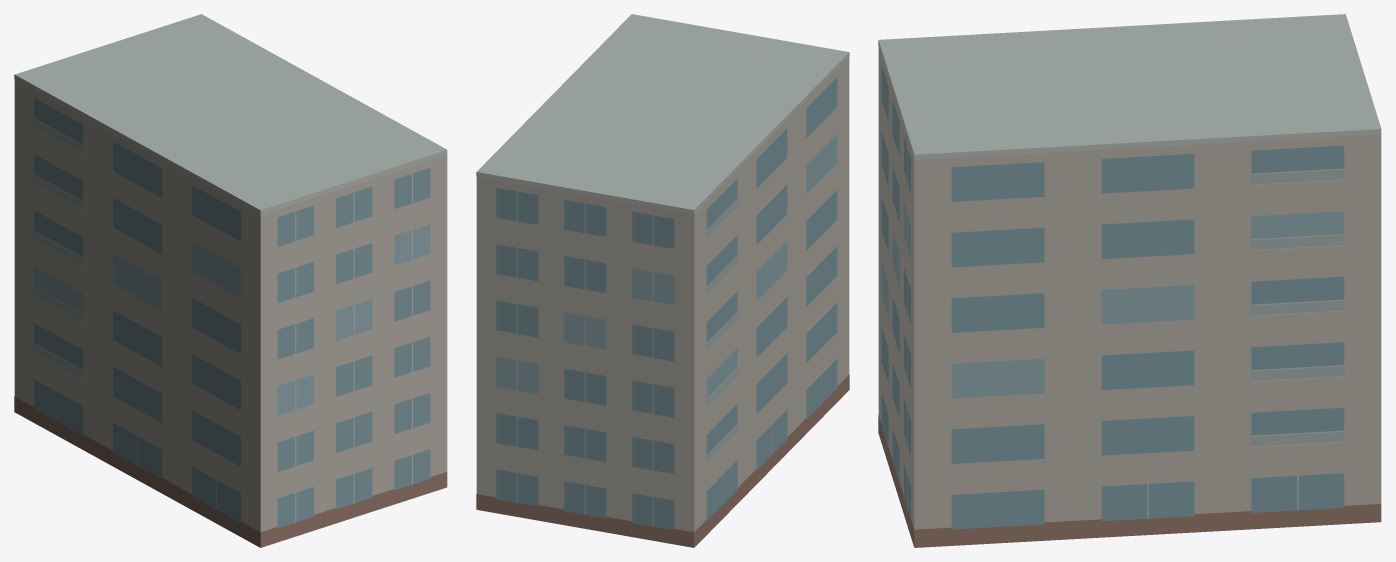
Rendered from survey-upis-32530967.glb.
3 views of the same model, side by side, from view 1: azimuth 30°, elevation 25°; view 2: azimuth 150°, elevation 25°; view 3: azimuth 270°, elevation 25° (orthographic). The views are drawn at different scales.
Parts seen in each view (by area): view 1: survey-upis-32530967.tmp; view 2: survey-upis-32530967.tmp; view 3: survey-upis-32530967.tmp.
Part boxes in pixels (x1,y1,x2,y2): survey-upis-32530967.tmp: (14,14,447,547); survey-upis-32530967.tmp: (476,14,849,547); survey-upis-32530967.tmp: (878,14,1381,547).
Size of the model in its own units: 13.37 by 17.4 by 20.18.
